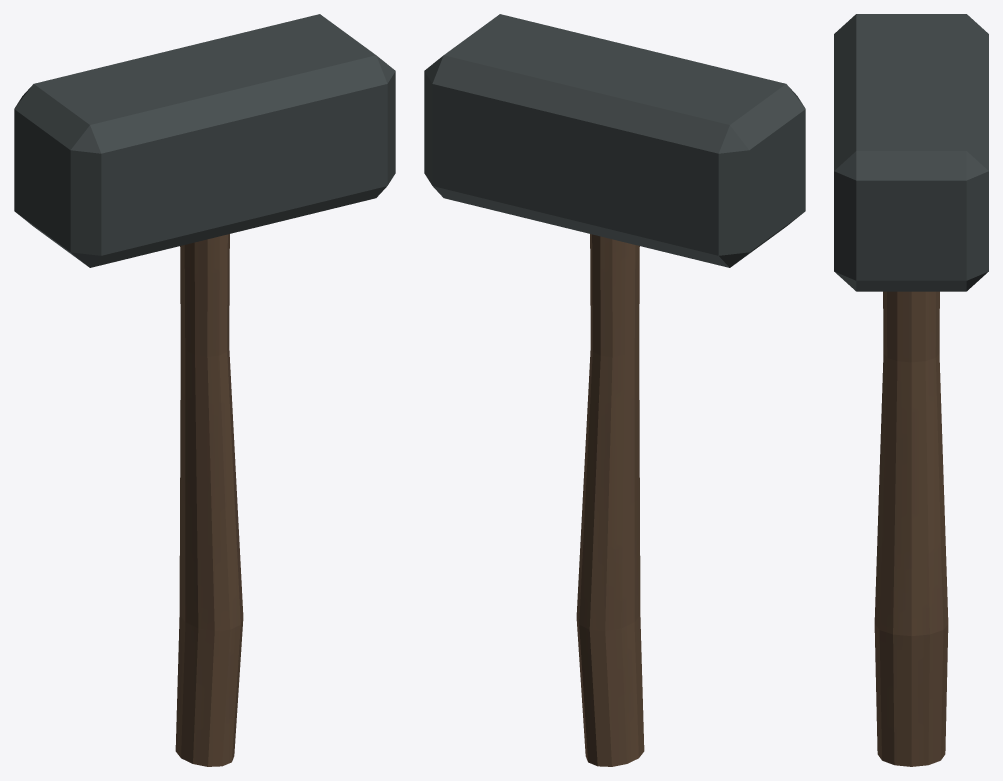
File: PR_Hammer.glb
3 views of the same model, side by side, from view 1: azimuth 30°, elevation 25°; view 2: azimuth 150°, elevation 25°; view 3: azimuth 270°, elevation 25° (orthographic).
Visible parts, largest first — view 1: PR_Hammer; view 2: PR_Hammer; view 3: PR_Hammer.
Boxes of the visible parts, x1,y1,x2,y2 form: PR_Hammer: [14, 14, 395, 766]; PR_Hammer: [424, 14, 805, 766]; PR_Hammer: [834, 14, 988, 766].
Bounding box in the file's own units: 0.25 × 0.5034 × 0.105.
Materials: 2 (1 with a texture image).
